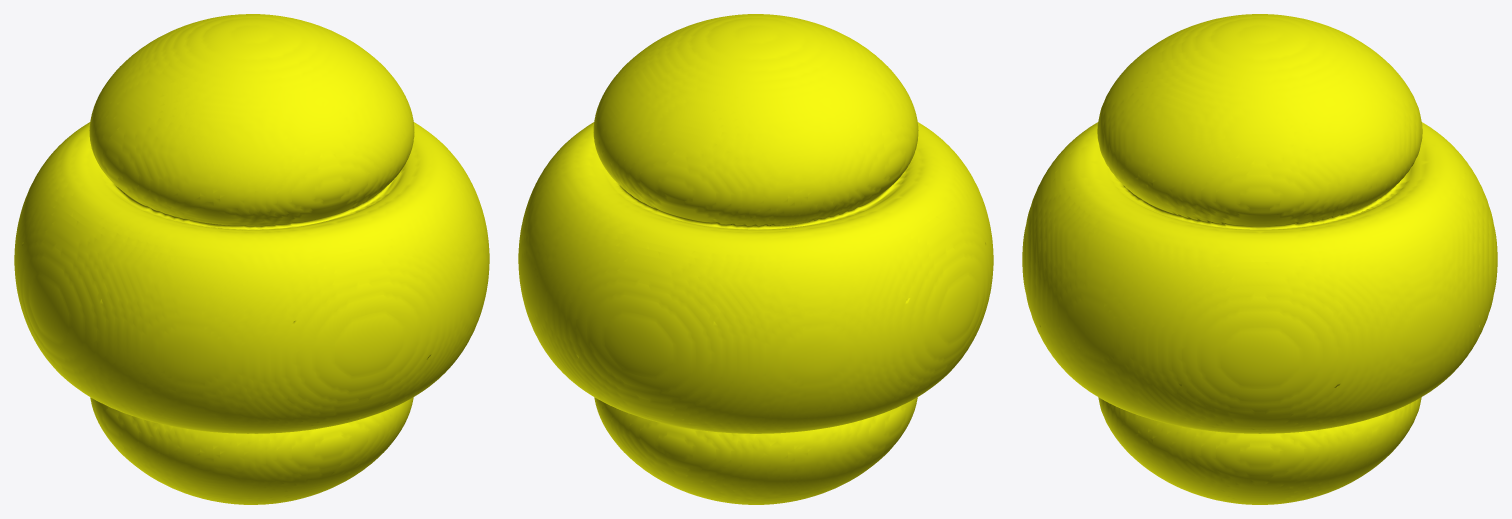
The model's file is orb_n=6_ l=2 _m=0.fbx.
3 renders of one model, left to right at view 1: azimuth 30°, elevation 25°; view 2: azimuth 150°, elevation 25°; view 3: azimuth 270°, elevation 25°, orthographic.
Parts seen in each view (by area): view 1: orb_n=6_ l=2 _m=0; view 2: orb_n=6_ l=2 _m=0; view 3: orb_n=6_ l=2 _m=0.
Boxes of the visible parts, box(x1,y1,x2,y2) form: orb_n=6_ l=2 _m=0: box(14, 14, 489, 504); orb_n=6_ l=2 _m=0: box(518, 14, 993, 504); orb_n=6_ l=2 _m=0: box(1022, 14, 1497, 504).
Size of the model in its own units: 23417 by 24613 by 23417.
